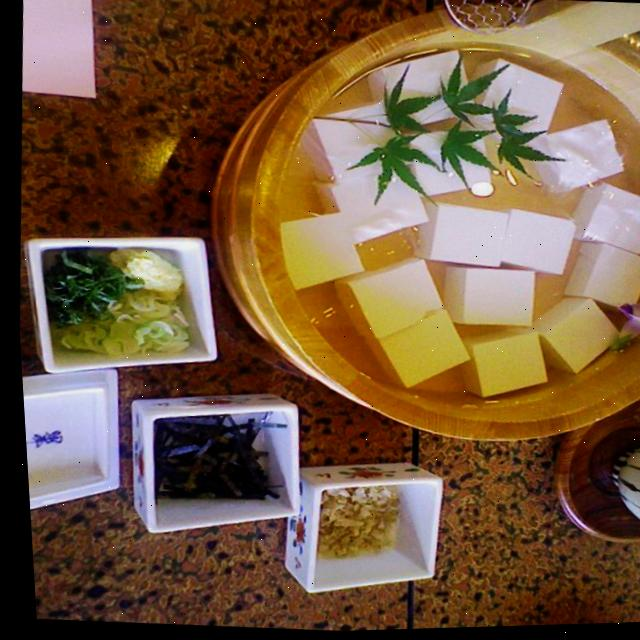豆腐料理: (227, 30, 640, 420)
